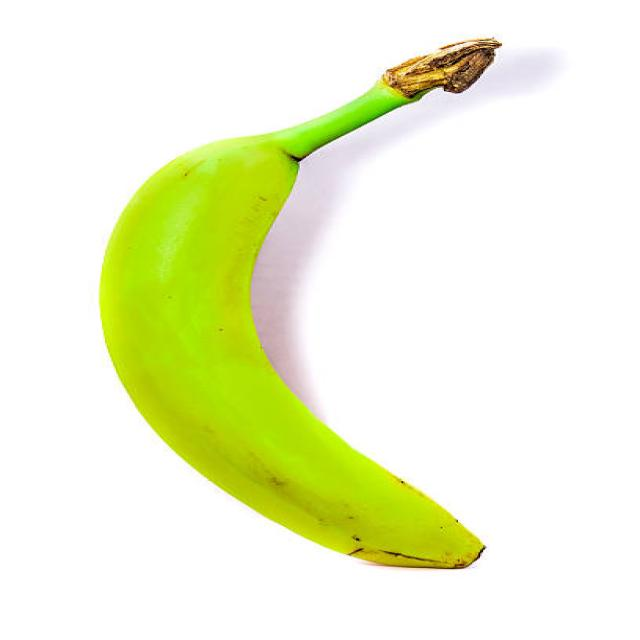banana: (97, 38, 486, 570)
